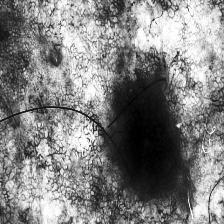Benign Marking or Mole: (117, 81, 183, 191)
